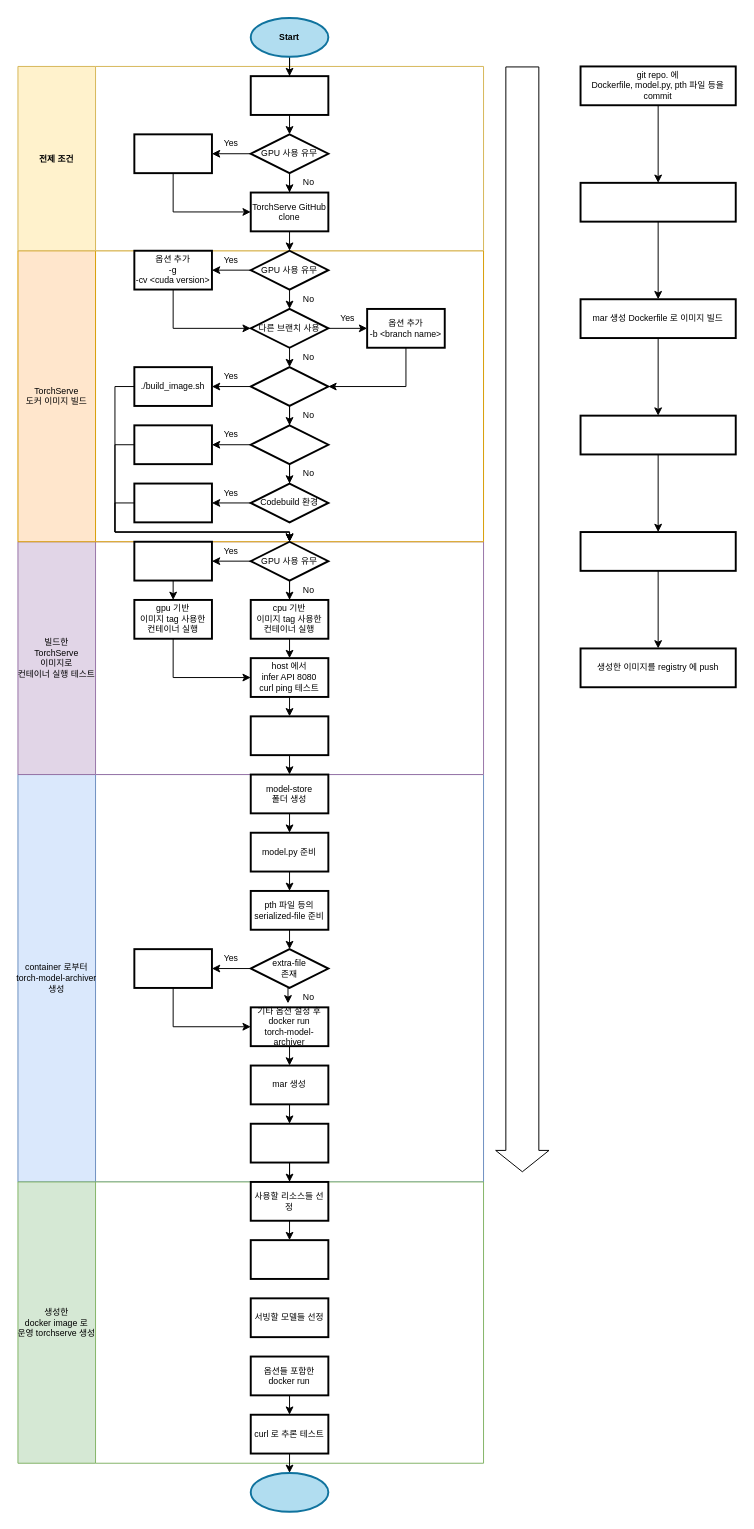
This 754x1529 diagram has some shape labels left out. Here are the shapes that lost their labels. From the top down, the centre of each, then its label:
At [289,95]: "docker, git 설치".
At [172,153]: "nvidia-driver nvidia-docker2 설치".
At [657,201]: ".gitlab-ci.yml 트리거".
At [289,386]: "Production 환경".
At [172,444]: "./build_image.sh -bt dev".
At [289,444]: "Dev 환경".
At [657,434]: "mar 와 handler 를 갖고 있는 이미지 생성 완료".
At [172,502]: "./build_image.sh -bt codebuild".
At [172,560]: "옵션 추가 --gpus <gpu 선택>".
At [657,551]: "생성한 이미지를 테스트".
At [289,735]: "host 에서 mgmt API 8081 curl ping 테스트".
At [172,968]: "extra-file 준비".
At [289,1142]: "mar 생성 확인".
At [289,1259]: "사용할 포트 선정".
At [289,1491]: "End".
